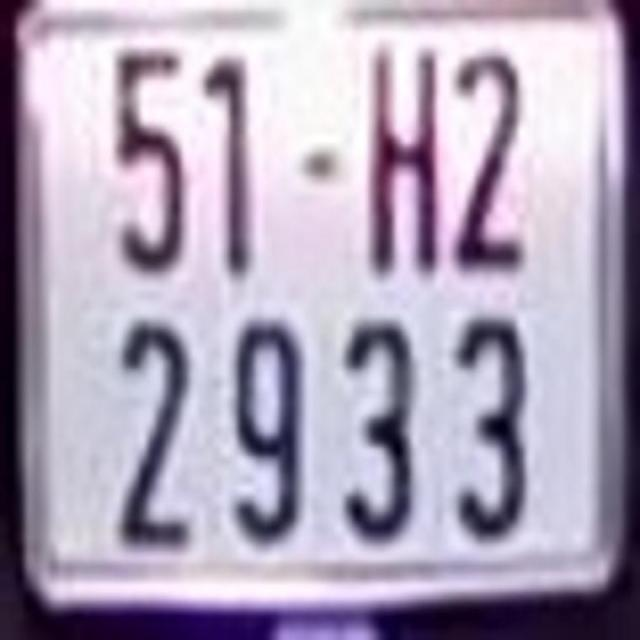1: (194, 47, 256, 280)
2: (110, 316, 197, 550), (452, 41, 528, 274)
3: (446, 309, 534, 542), (340, 316, 414, 542)
5: (106, 38, 190, 268)
9: (227, 313, 304, 544)
H: (361, 36, 442, 278)
